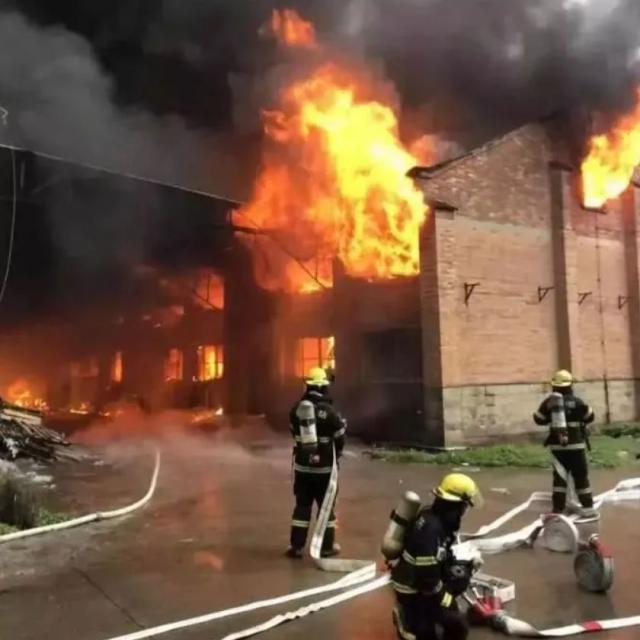Fire: (263, 84, 428, 276), (577, 93, 640, 211)
Smoke: (0, 0, 233, 264), (433, 0, 570, 118)
